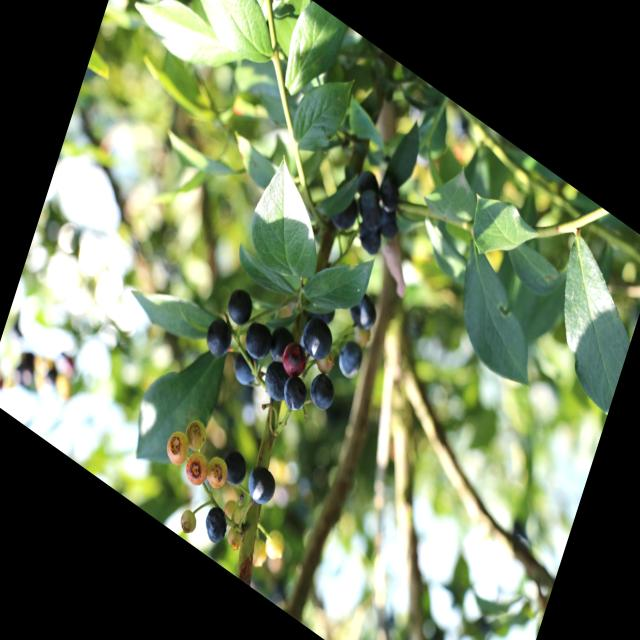blueberry: (298, 310, 338, 368), (242, 459, 280, 514), (222, 280, 258, 333), (201, 312, 236, 366), (346, 286, 382, 338), (353, 182, 388, 235), (260, 355, 294, 408), (328, 186, 362, 238), (241, 316, 275, 367), (304, 367, 338, 417), (266, 320, 298, 370), (278, 368, 310, 418), (334, 337, 365, 385), (219, 446, 251, 492), (201, 502, 232, 549), (229, 345, 260, 391), (376, 203, 403, 244), (356, 220, 383, 260), (355, 166, 381, 204), (378, 174, 402, 212)
blueberry-halfripe: (181, 447, 212, 491), (162, 426, 192, 471), (202, 452, 231, 494)
blueberry-unripe: (183, 414, 211, 456), (261, 524, 287, 566), (249, 534, 273, 574), (177, 506, 199, 539), (226, 524, 246, 554)
